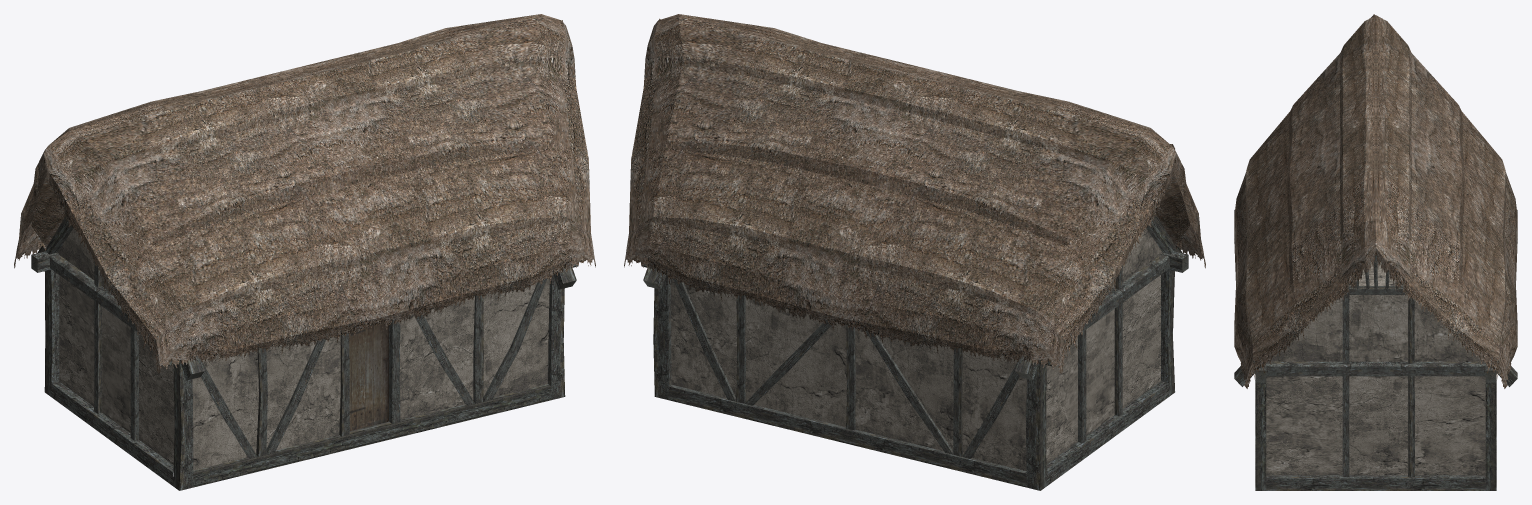
The model's file is Thatched_house3V1_Alex.fbx.
The picture shows the model from 3 angles, left to right: view 1: azimuth 30°, elevation 25°; view 2: azimuth 150°, elevation 25°; view 3: azimuth 270°, elevation 25°; orthographic projection. The views are drawn at different scales.
Visible parts, largest first — view 1: ThatchedRoof_UP.001, House_walls, ThatchedRoof_BOT.001, House_frame.003, Wooden_door.001; view 2: ThatchedRoof_UP.001, House_walls, ThatchedRoof_BOT.001, House_frame.003; view 3: ThatchedRoof_UP.001, House_walls, House_frame.003, ThatchedRoof_BOT.001.
Part boxes in pixels (bbox=[...]): ThatchedRoof_UP.001: bbox=[29, 14, 580, 325]; House_walls: bbox=[57, 228, 549, 470]; ThatchedRoof_BOT.001: bbox=[14, 23, 595, 373]; House_frame.003: bbox=[31, 216, 578, 490]; Wooden_door.001: bbox=[349, 322, 388, 430]; ThatchedRoof_UP.001: bbox=[639, 14, 1190, 325]; House_walls: bbox=[670, 228, 1162, 471]; ThatchedRoof_BOT.001: bbox=[624, 21, 1205, 373]; House_frame.003: bbox=[641, 215, 1188, 490]; ThatchedRoof_UP.001: bbox=[1245, 14, 1506, 345]; House_walls: bbox=[1266, 262, 1485, 475]; House_frame.003: bbox=[1234, 210, 1517, 490]; ThatchedRoof_BOT.001: bbox=[1234, 172, 1517, 388].
Bounding box in the file's own units: 979 × 585 × 513.
Materials: 5 (5 with a texture image).
